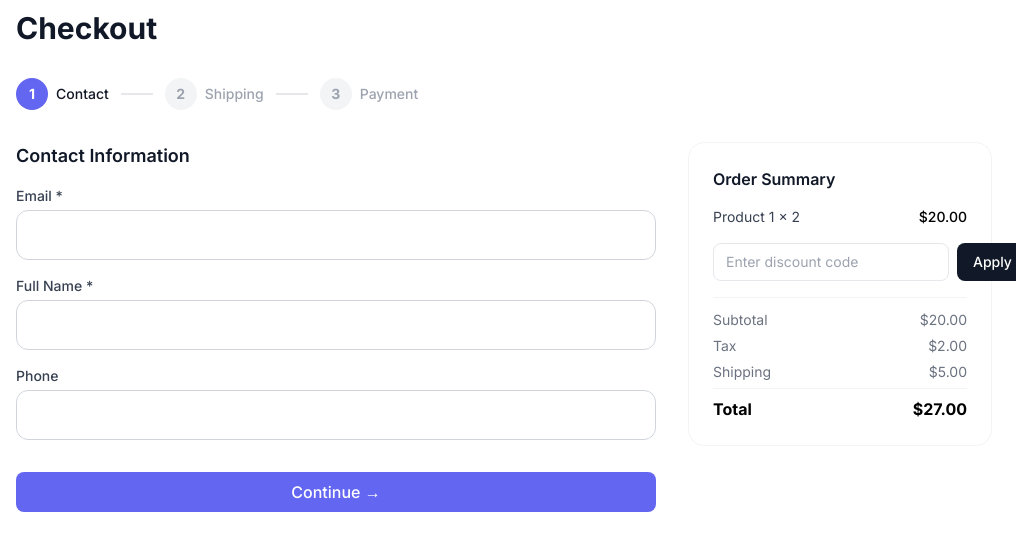
Test case: CheckoutPage › should allow applying a discount code
The image size is (1028, 537).
Type "SAVE5" into the field with placeholder "Enter discount code" at (831, 262), box [713,243,949,281]
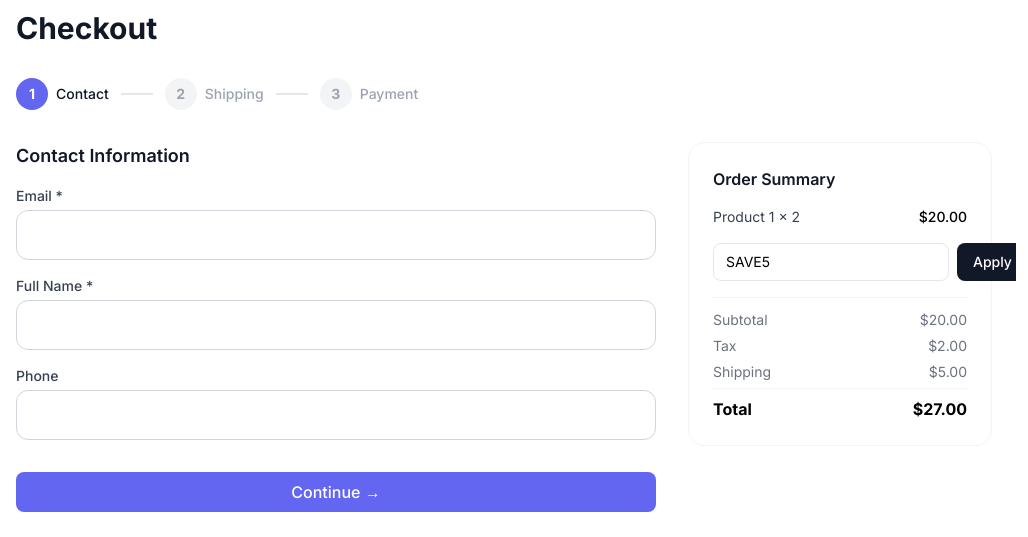
Click the button "Apply" at (986, 262), box [957,243,1016,281]
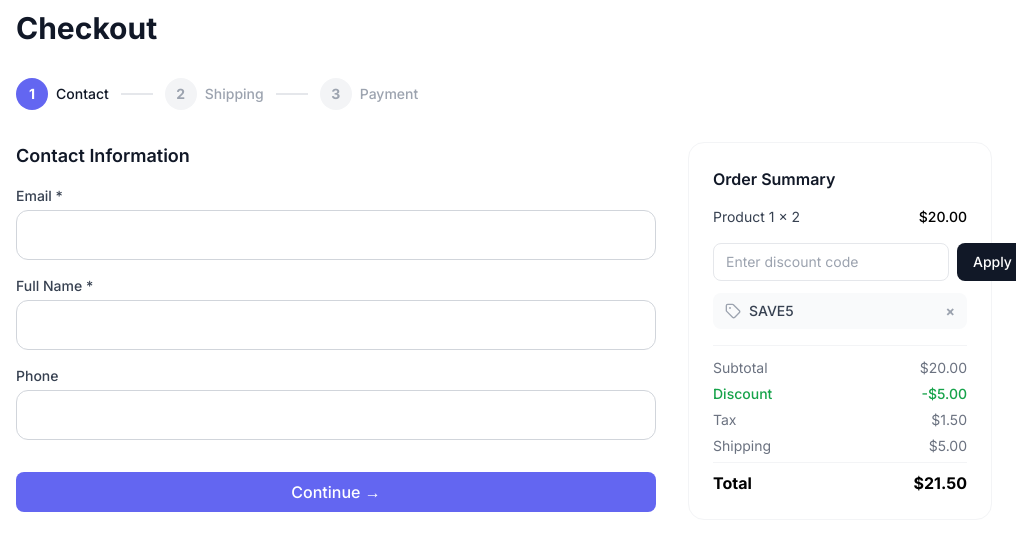
Result: the text "-$5.00" is shown at [921,384,967,404]
Result: the text "$21.50" is shown at [914,471,967,495]
Result: the text "SAVE5" is shown at [749,301,794,321]
